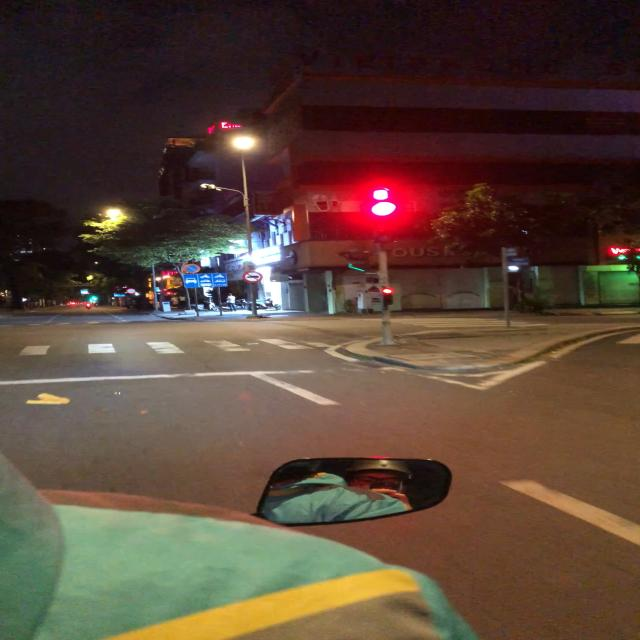Bien bao cam do xe: (180, 262, 202, 274)
Bien bao cam xe so-mi ro-mooc: (241, 269, 263, 284)
